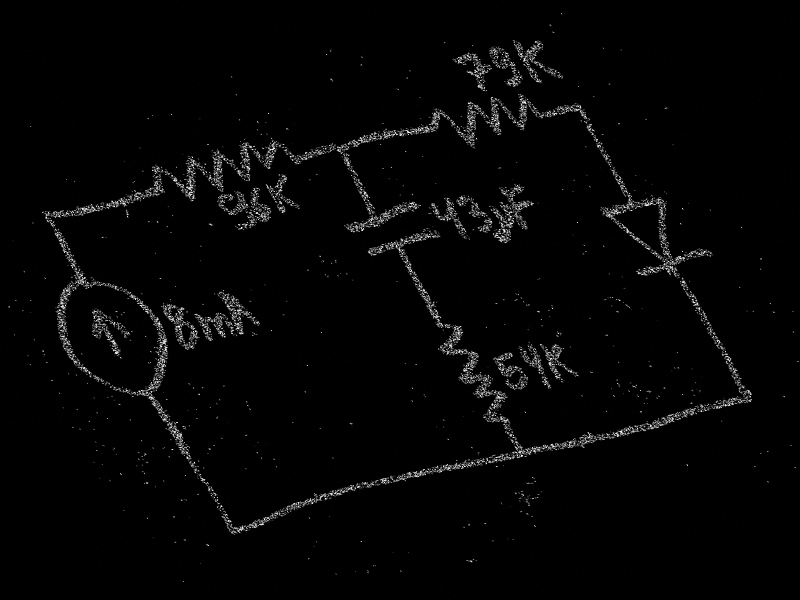3: (451, 190, 500, 238)
4: (424, 193, 477, 247), (513, 340, 560, 393)
5: (487, 349, 535, 394)
6: (240, 184, 280, 226)
7: (447, 46, 505, 96)
8: (154, 298, 209, 353)
9: (212, 188, 264, 235), (482, 43, 530, 90)
A: (213, 286, 265, 338)
F: (496, 181, 547, 230)
k: (507, 32, 568, 88), (536, 338, 582, 385), (259, 172, 307, 217)
m: (189, 305, 241, 345)
u: (484, 200, 526, 242)
